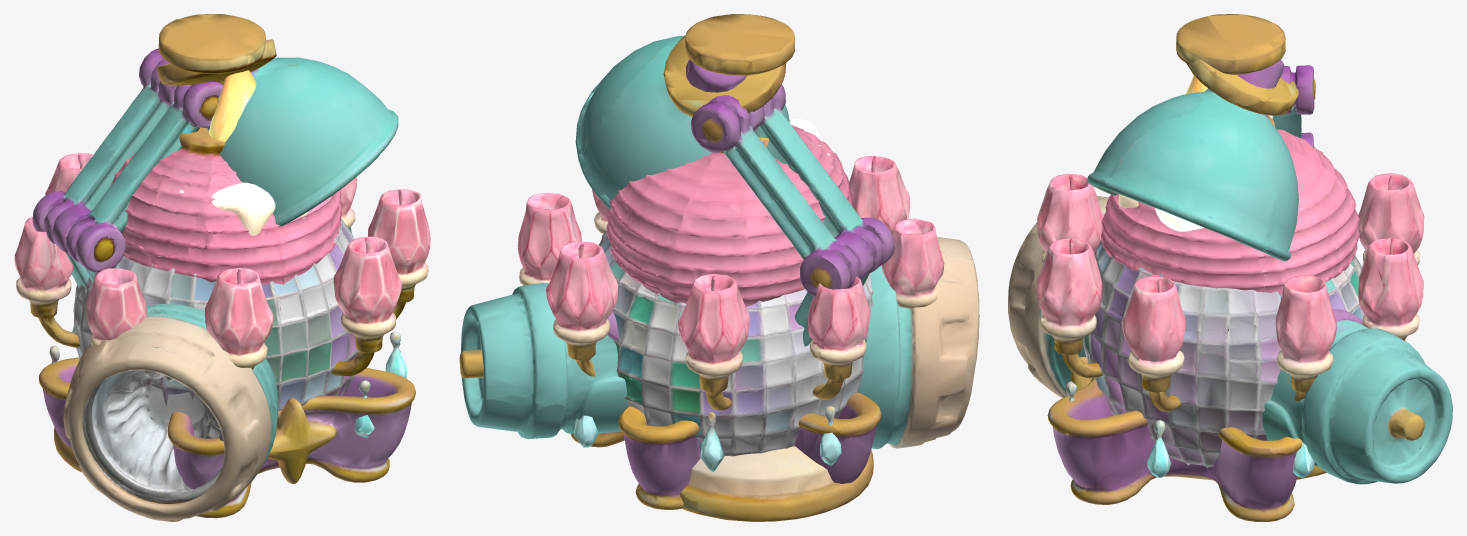
The model's file is store_items_sheet_04_mobile.glb.
3 renders of one model, left to right at view 1: azimuth 30°, elevation 25°; view 2: azimuth 150°, elevation 25°; view 3: azimuth 270°, elevation 25°, orthographic. The views are drawn at different scales.
Visible parts, largest first — view 1: lamp_desk, chandelier, flashlight, candle, lantern, disco; view 2: lamp_desk, chandelier, flashlight, disco, lantern, candle; view 3: chandelier, disco, flashlight, lamp_desk, lantern, candle.
Part boxes in pixels (<box>): lamp_desk: <box>32,48,398,472</box>; chandelier: <box>14,14,430,437</box>; flashlight: <box>63,227,351,521</box>; candle: <box>39,70,415,518</box>; lantern: <box>110,127,342,310</box>; disco: <box>73,39,358,427</box>; lamp_desk: <box>575,36,894,521</box>; chandelier: <box>517,14,944,472</box>; flashlight: <box>459,230,979,449</box>; disco: <box>598,35,873,456</box>; lantern: <box>606,125,852,306</box>; candle: <box>571,119,881,509</box>; chandelier: <box>1036,14,1424,477</box>; disco: <box>1083,59,1364,467</box>; flashlight: <box>1008,196,1452,484</box>; lamp_desk: <box>1087,60,1326,479</box>; lantern: <box>1101,115,1359,330</box>; candle: <box>1047,75,1302,521</box>.
Size of the model in its own units: 1.55 by 1.55 by 1.5.
Materials: 1 (1 with a texture image).
